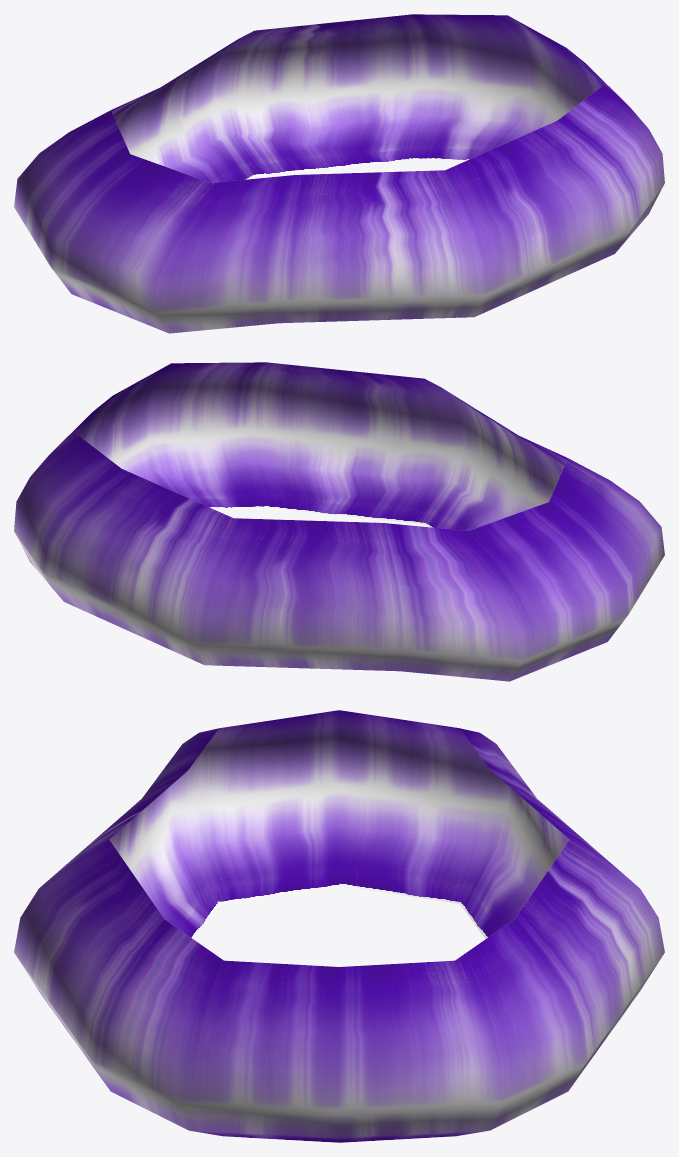
Rendered from flying_unit_plasma.obj.
3 renders of one model, top to bottom at view 1: azimuth 30°, elevation 25°; view 2: azimuth 150°, elevation 25°; view 3: azimuth 270°, elevation 25°, orthographic. The views are drawn at different scales.
Visible parts, largest first — view 1: pSphere9; view 2: pSphere9; view 3: pSphere9.
Part boxes in pixels (box(x1,y1,x2,y2)): pSphere9: box(14, 14, 664, 333); pSphere9: box(14, 362, 664, 681); pSphere9: box(14, 710, 664, 1142).
Size of the model in its own units: 53.54 by 13.33 by 44.72.
1 material, 1 textured.
